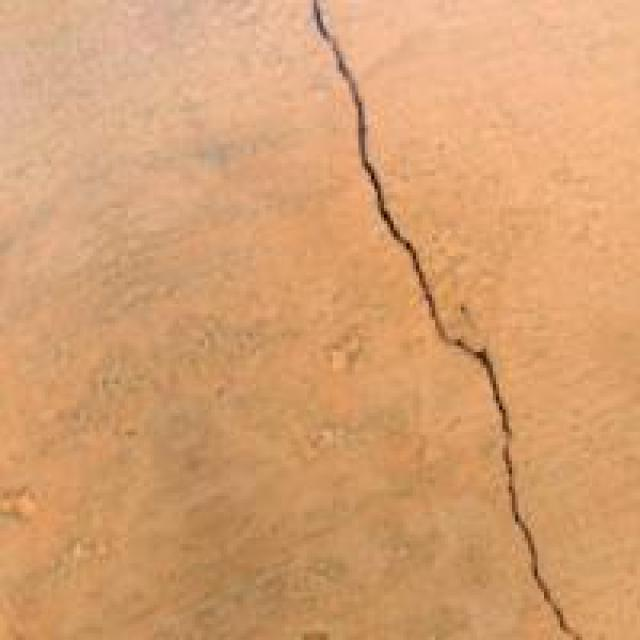Crack: (294, 0, 589, 637)
